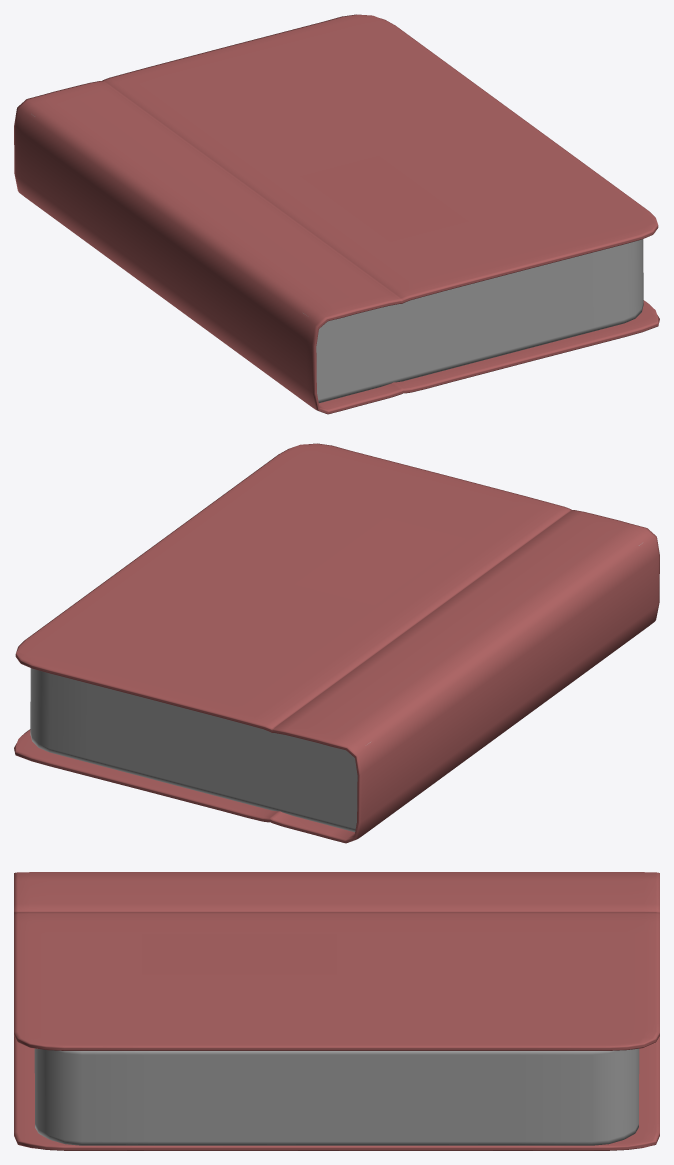
Rendered from book.fbx.
3 renders of one model, top to bottom at view 1: azimuth 30°, elevation 25°; view 2: azimuth 150°, elevation 25°; view 3: azimuth 270°, elevation 25°, orthographic. The views are drawn at different scales.
Parts seen in each view (by area): view 1: hardvoer; view 2: hardvoer; view 3: hardvoer.
Boxes of the visible parts, x1,y1,x2,y2 form: hardvoer: (14,14,659,414); hardvoer: (14,443,659,843); hardvoer: (14,872,659,1150).
Bounding box in the file's own units: 0.1473 × 0.0406 × 0.2136.
